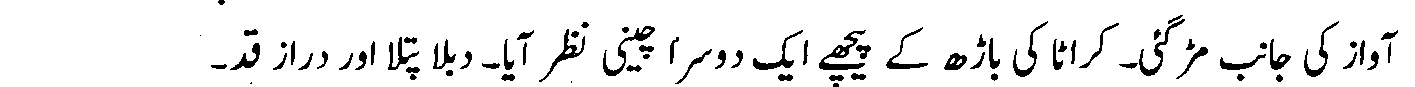bay_shosha: (1217, 53, 1260, 84), (442, 52, 457, 76)
